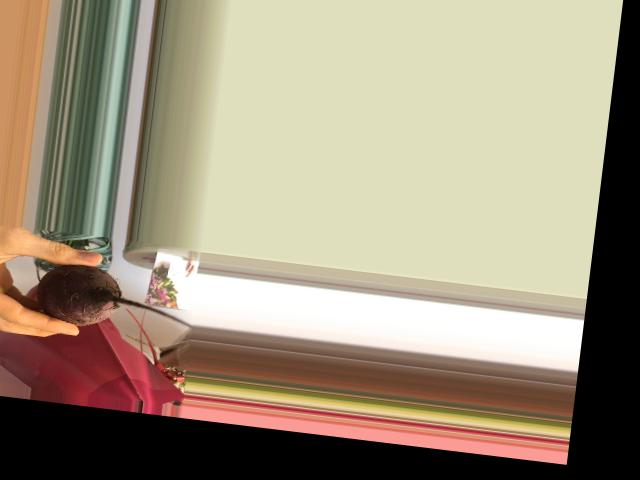beet: (32, 259, 199, 339)
